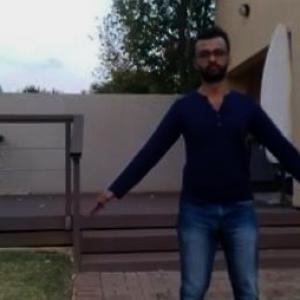land: (100, 40, 299, 299)
